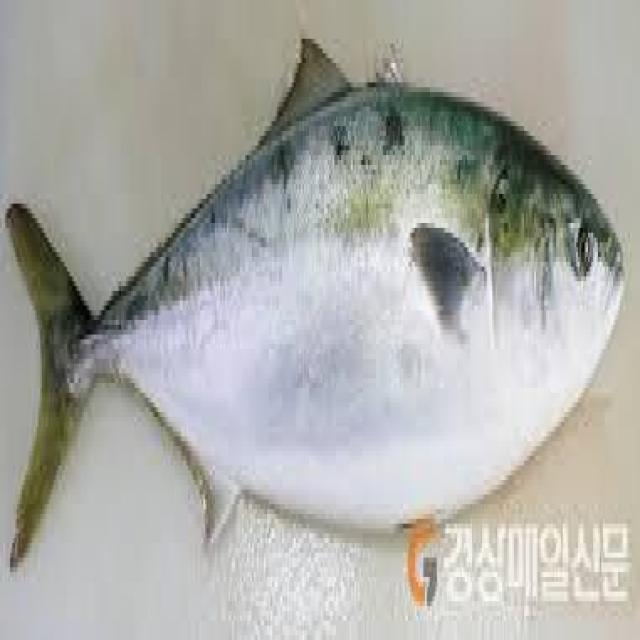Kingfish: (0, 31, 629, 582)
